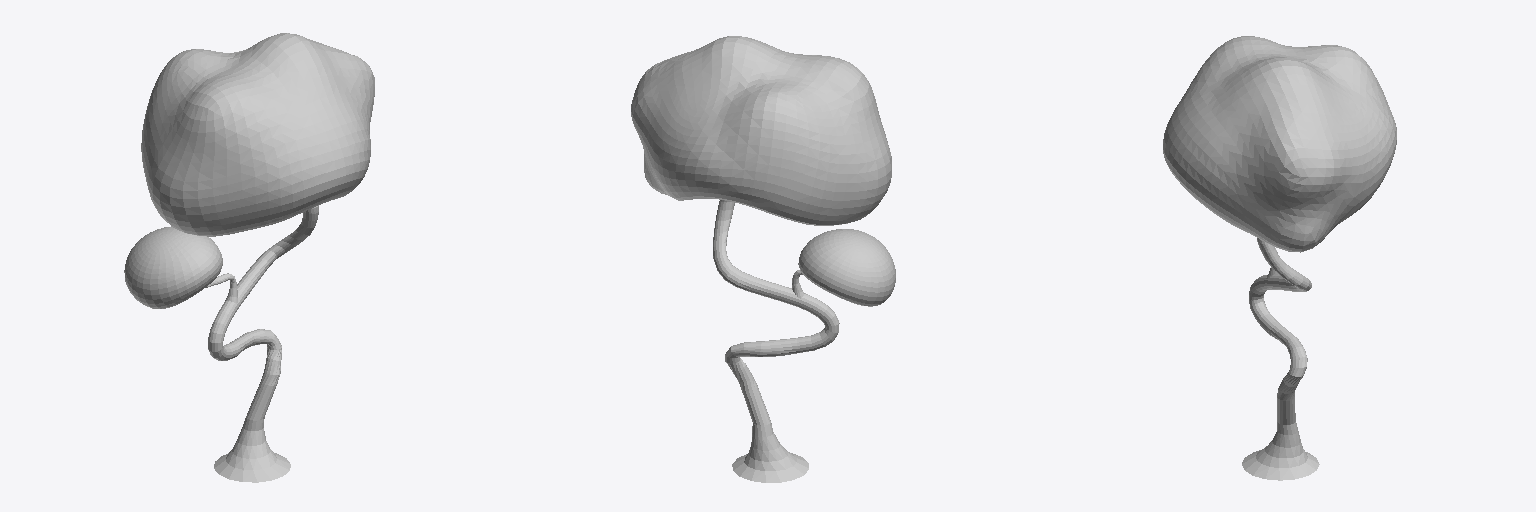
File: Curvy Tree 1.OBJ
The picture shows the model from 3 angles: view 1: azimuth 30°, elevation 25°; view 2: azimuth 150°, elevation 25°; view 3: azimuth 270°, elevation 25°; orthographic projection.
Visible parts, largest first — view 1: Group12399, Group32030, Group42676; view 2: Group12399, Group32030, Group42676; view 3: Group12399, Group32030.
Part boxes in pixels (left/top/right/bottom): Group12399: left=141, top=33, right=374, bottom=236; Group32030: left=206, top=205, right=318, bottom=482; Group42676: left=124, top=226, right=222, bottom=308; Group12399: left=631, top=36, right=891, bottom=225; Group32030: left=713, top=200, right=839, bottom=482; Group42676: left=798, top=229, right=895, bottom=306; Group12399: left=1163, top=36, right=1396, bottom=252; Group32030: left=1242, top=238, right=1319, bottom=480.
Bounding box in the file's own units: 12.77 × 20.8 × 10.54.